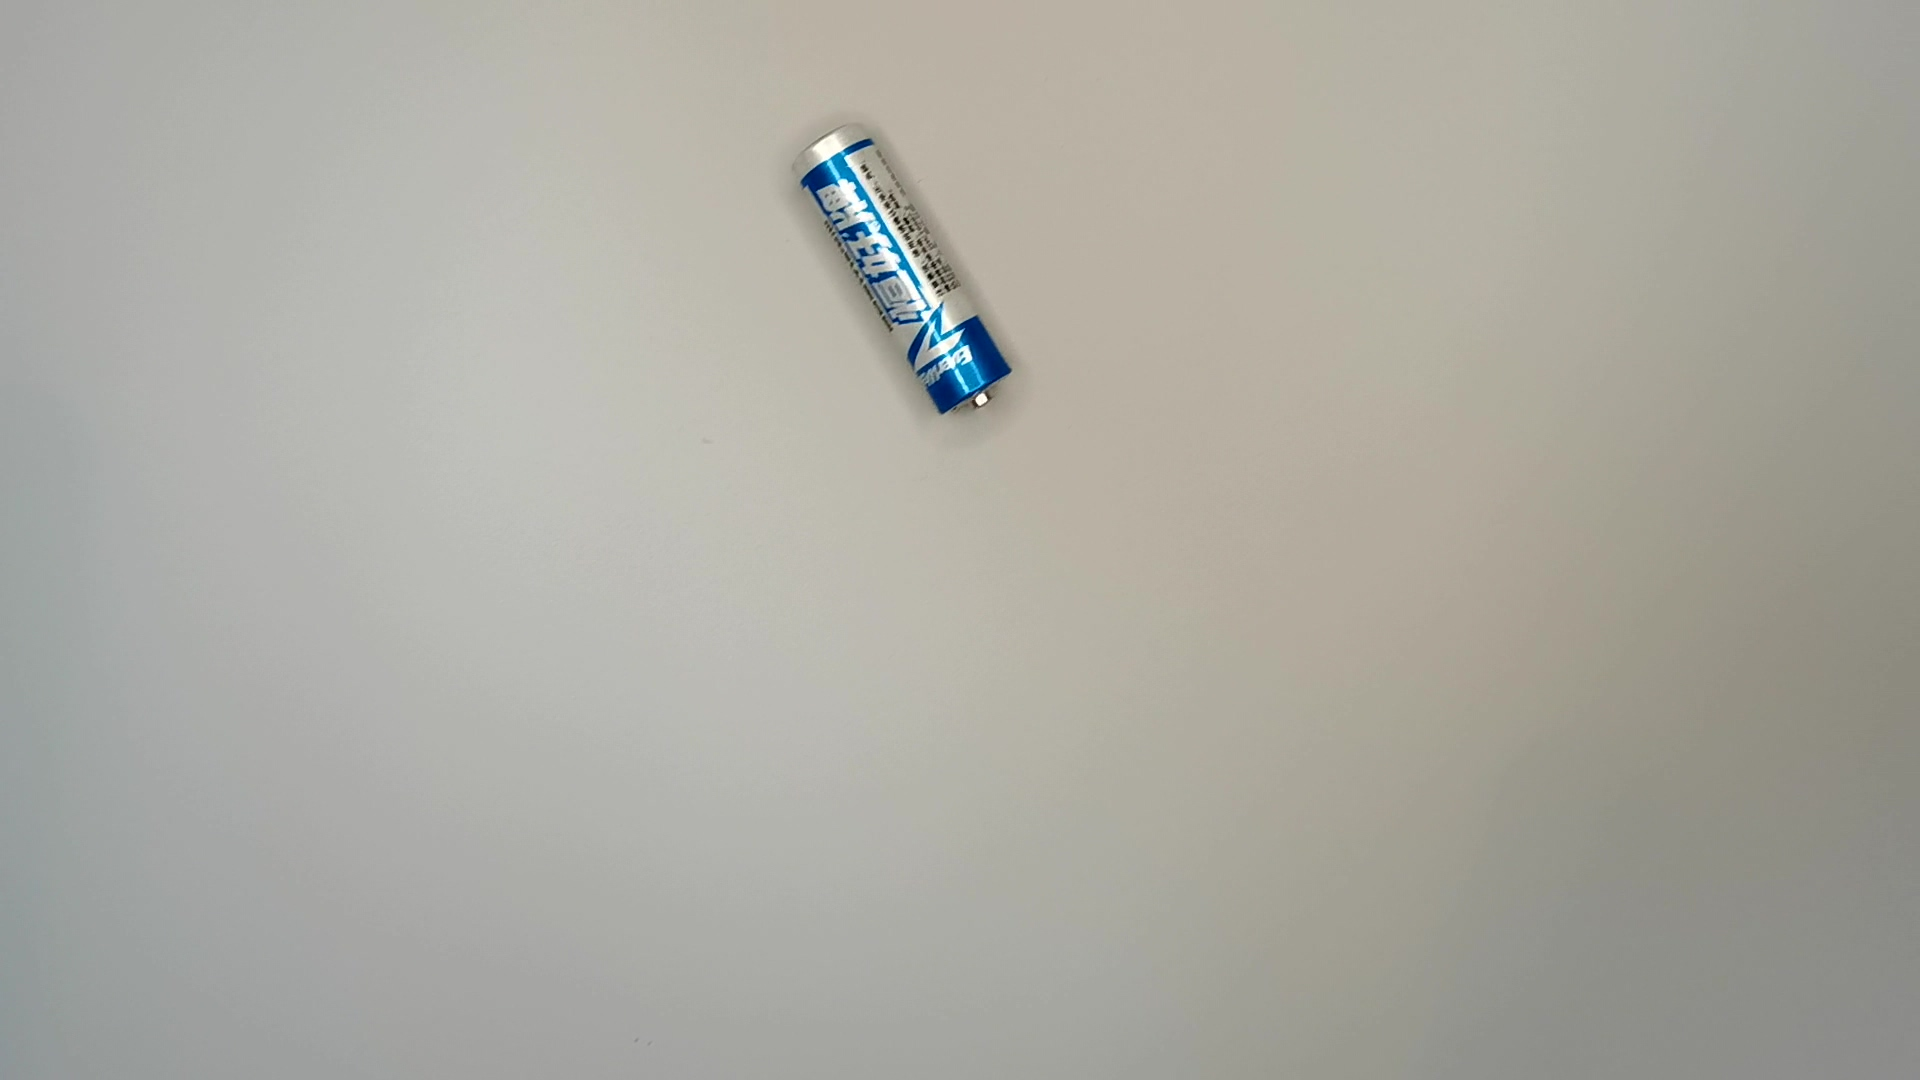battery: (789, 115, 1023, 423)
